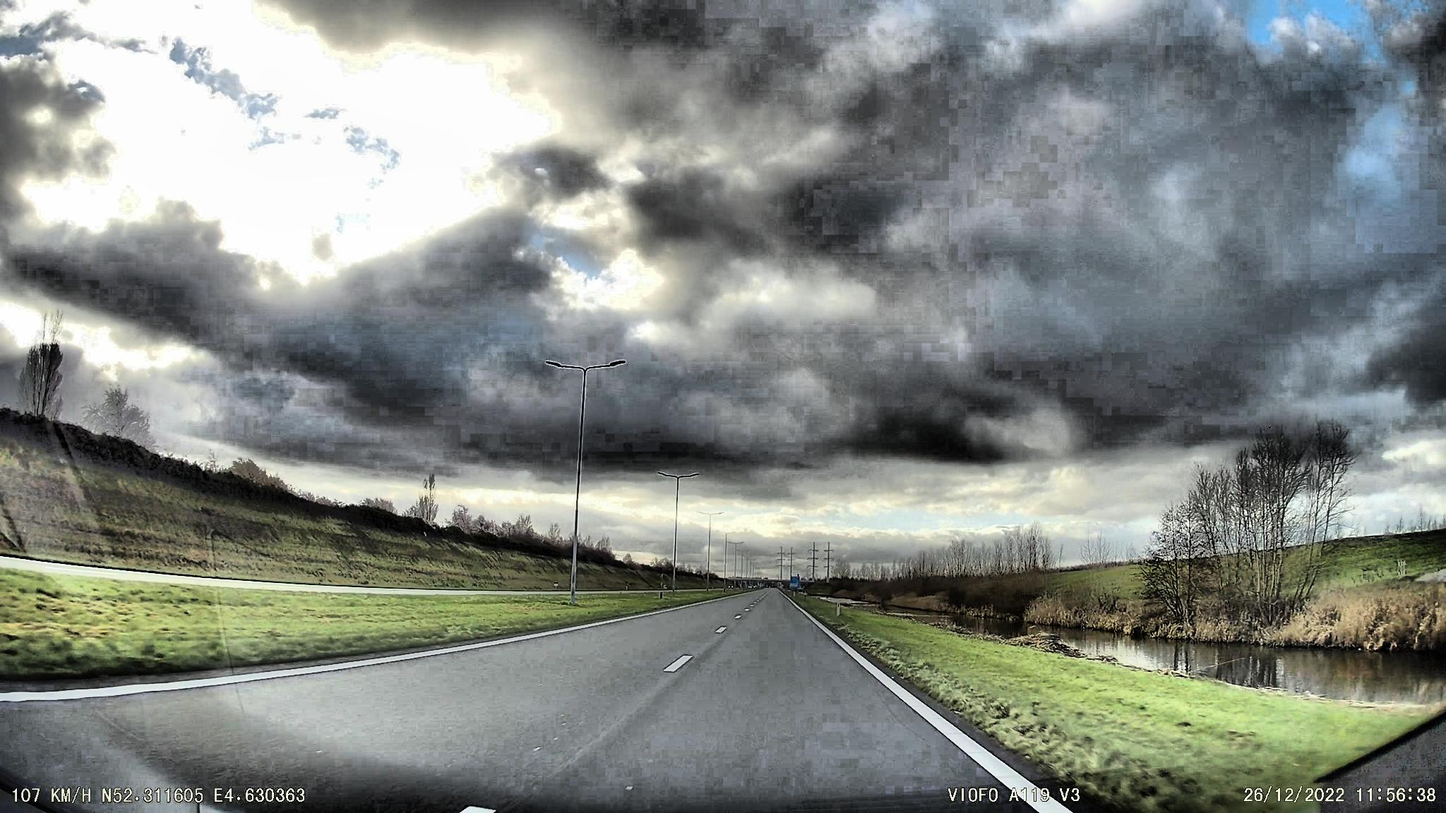Roads: (0, 591, 1078, 813)
